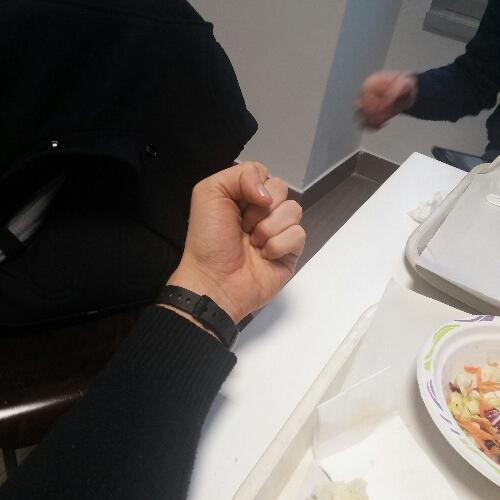rock: (176, 153, 312, 316)
